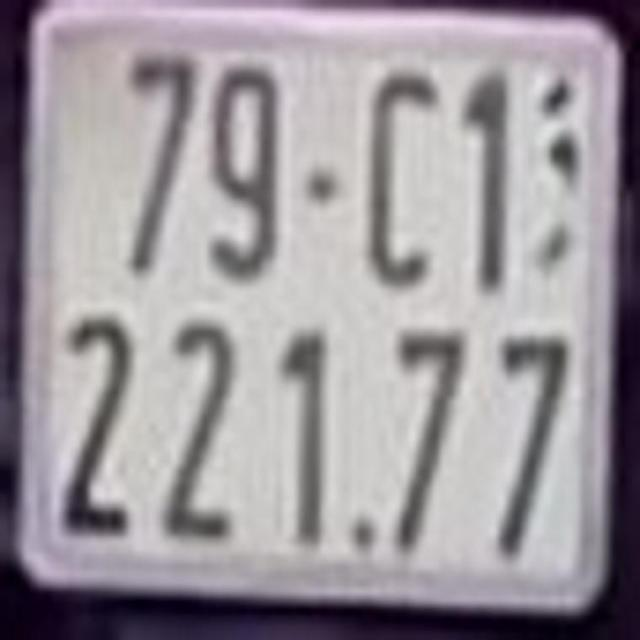1: (267, 316, 337, 548), (459, 67, 520, 300)
2: (62, 305, 141, 546), (166, 306, 237, 544)
7: (484, 330, 573, 561), (390, 316, 469, 556), (124, 46, 199, 272)
9: (204, 51, 280, 288)
C: (363, 65, 443, 290)
